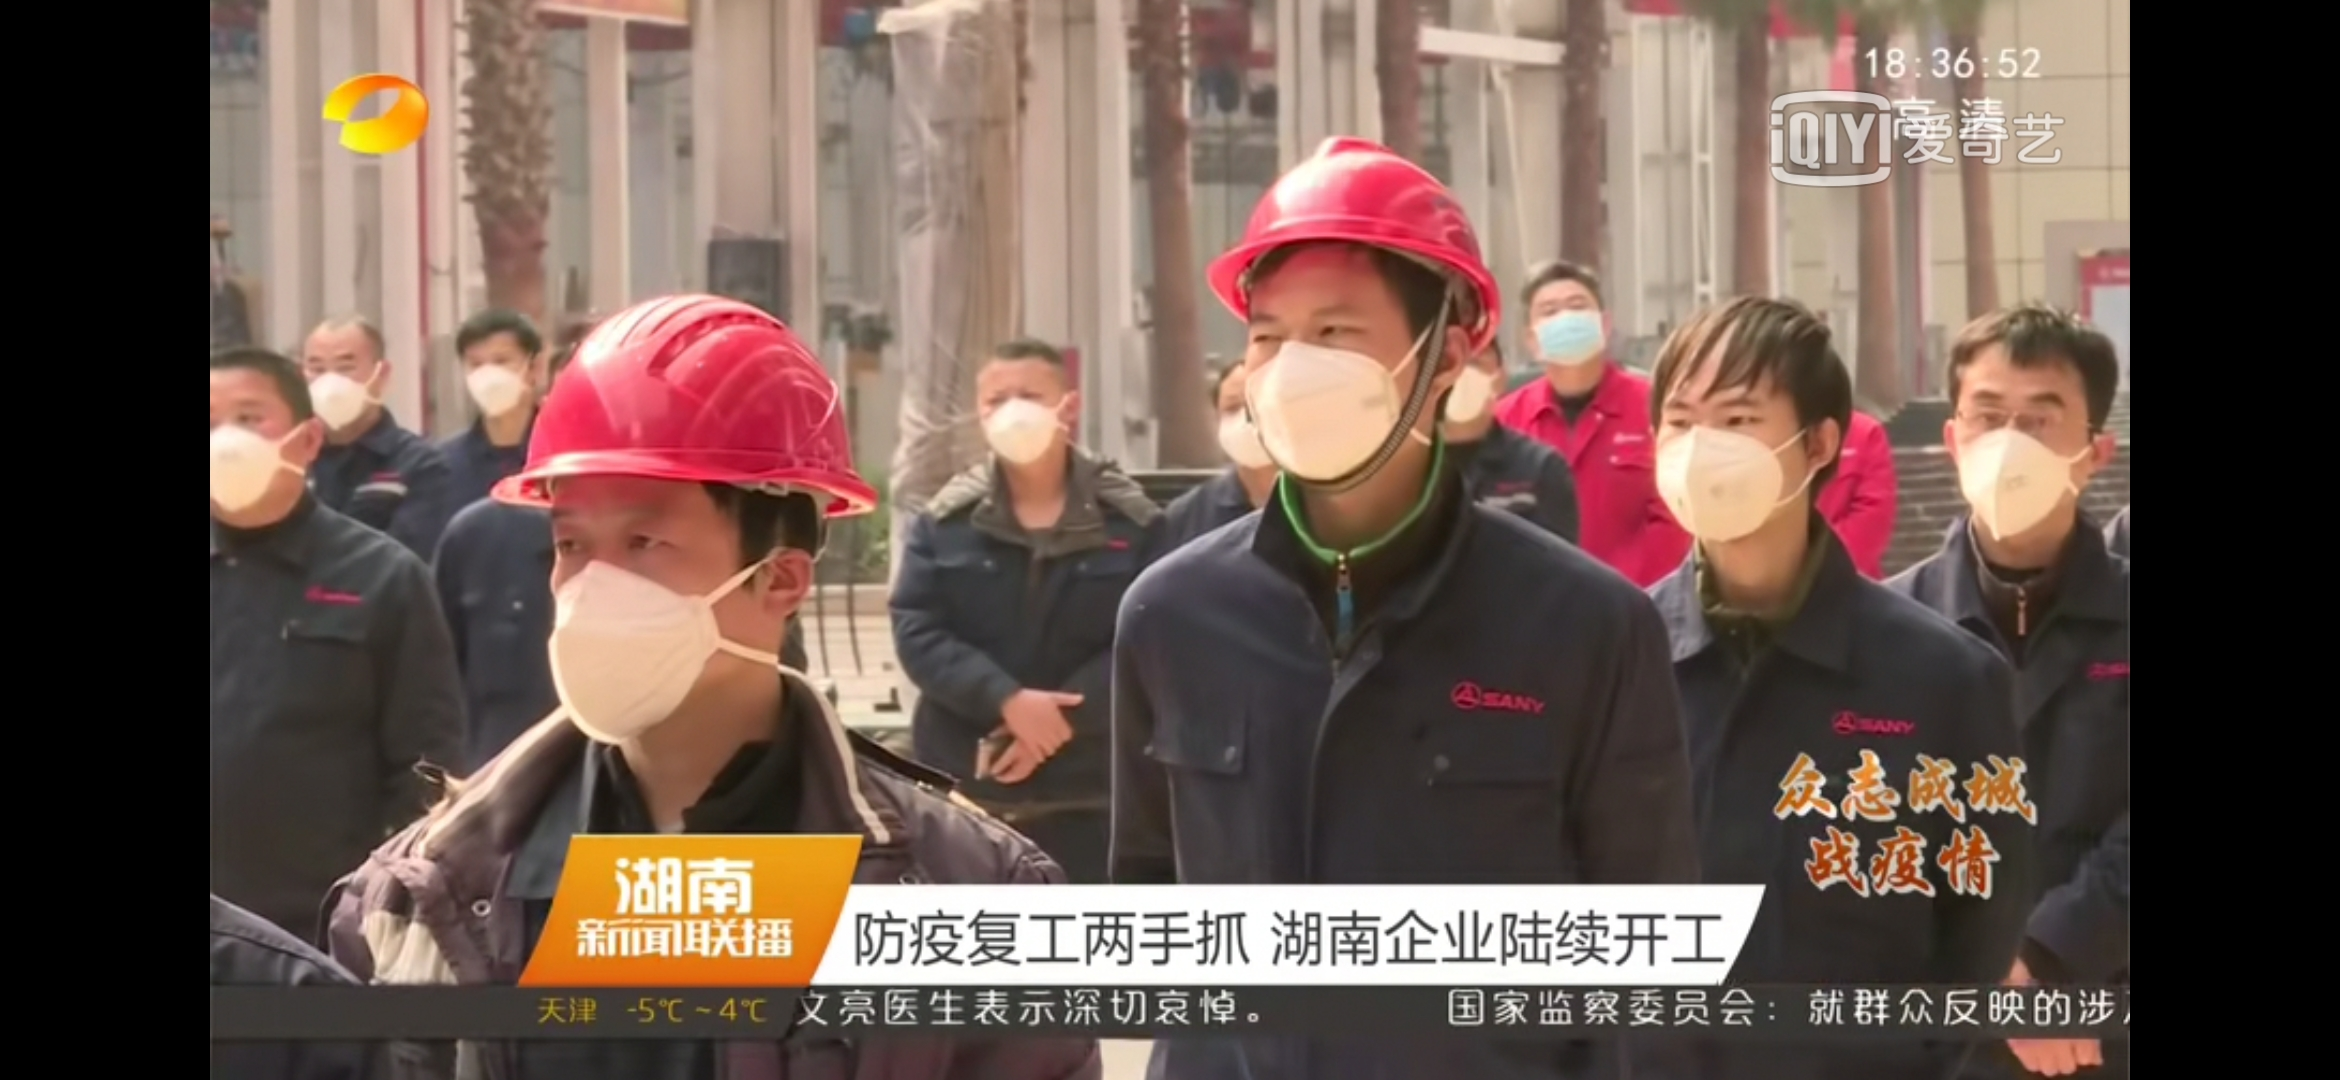correctlyWear: (552, 527, 807, 756), (1246, 276, 1468, 489), (1649, 380, 1839, 555), (1945, 371, 2116, 539), (210, 401, 322, 522), (977, 362, 1080, 477), (306, 348, 398, 442), (1204, 365, 1268, 486), (1527, 286, 1612, 371), (461, 340, 533, 424), (1443, 348, 1504, 428)
